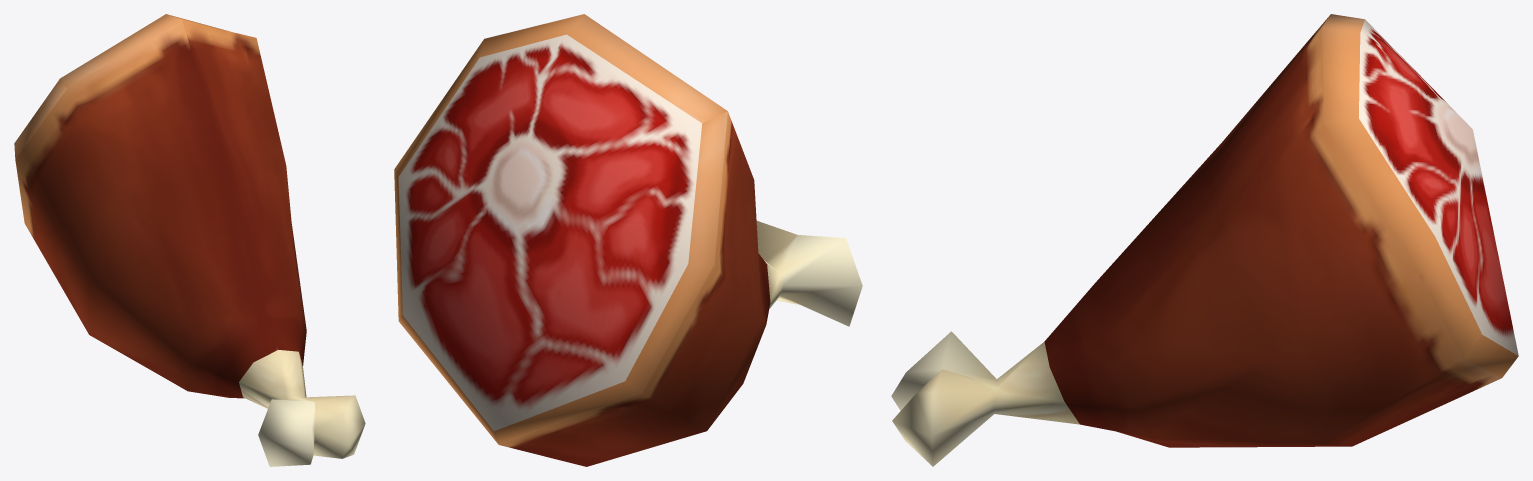
File: SM_PROP_food_meat_05.FBX
The picture shows the model from 3 angles, left to right: view 1: azimuth 30°, elevation 25°; view 2: azimuth 150°, elevation 25°; view 3: azimuth 270°, elevation 25°; orthographic projection. The views are drawn at different scales.
Visible parts, largest first — view 1: SM_PROP_food_meat_05; view 2: SM_PROP_food_meat_05; view 3: SM_PROP_food_meat_05.
Part boxes in pixels (x1=…): SM_PROP_food_meat_05: x1=14, y1=14, x2=365, y2=466; SM_PROP_food_meat_05: x1=394, y1=14, x2=862, y2=466; SM_PROP_food_meat_05: x1=891, y1=14, x2=1518, y2=466.
Bounding box in the file's own units: 40.81 × 70.59 × 53.09.
